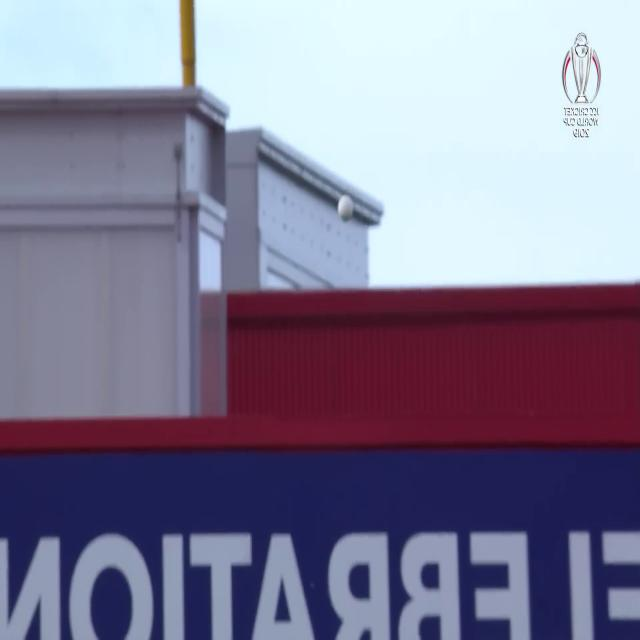ball: (334, 193, 356, 225)
